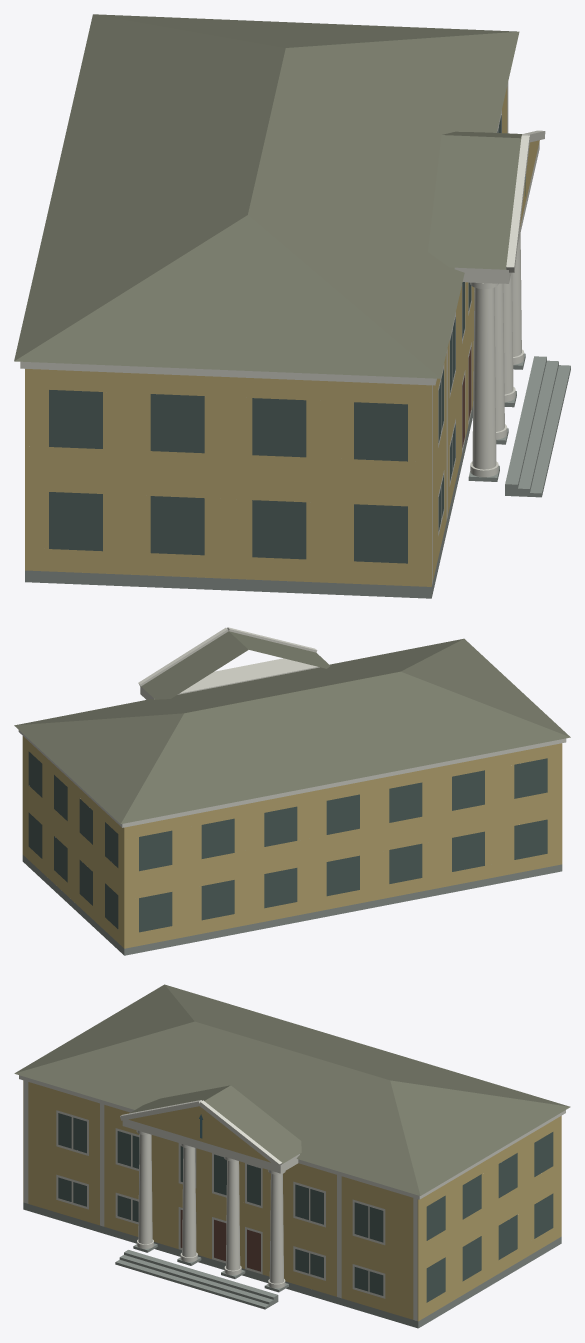
Rendered from fort-langley-community-hall-near.glb.
3 views of the same model, one above another, from view 1: azimuth 30°, elevation 25°; view 2: azimuth 150°, elevation 25°; view 3: azimuth 270°, elevation 25° (orthographic). The views are drawn at different scales.
Parts seen in each view (by area): view 1: fort-langley-community-hall-0-roof, fort-langley-community-hall-0-stone, fort-langley-community-hall-0-glass, fort-langley-community-hall-0-trim, fort-langley-community-hall-0-plinth; view 2: fort-langley-community-hall-0-roof, fort-langley-community-hall-0-stone, fort-langley-community-hall-0-glass, fort-langley-community-hall-0-trim, fort-langley-community-hall-0-plinth; view 3: fort-langley-community-hall-0-roof, fort-langley-community-hall-0-stone, fort-langley-community-hall-0-trim, fort-langley-community-hall-0-glass, fort-langley-community-hall-0-plinth, fort-langley-community-hall-0-door.
Part boxes in pixels (left/top/right/bottom): fort-langley-community-hall-0-roof: left=14, top=14, right=521, bottom=378; fort-langley-community-hall-0-stone: left=25, top=86, right=539, bottom=586; fort-langley-community-hall-0-glass: left=49, top=115, right=501, bottom=563; fort-langley-community-hall-0-trim: left=20, top=82, right=545, bottom=584; fort-langley-community-hall-0-plinth: left=25, top=353, right=570, bottom=598; fort-langley-community-hall-0-roof: left=14, top=631, right=570, bottom=823; fort-langley-community-hall-0-stone: left=22, top=736, right=562, bottom=948; fort-langley-community-hall-0-glass: left=28, top=751, right=547, bottom=932; fort-langley-community-hall-0-trim: left=18, top=627, right=566, bottom=827; fort-langley-community-hall-0-plinth: left=22, top=855, right=562, bottom=955; fort-langley-community-hall-0-roof: left=14, top=984, right=570, bottom=1195; fort-langley-community-hall-0-stone: left=23, top=1080, right=561, bottom=1321; fort-langley-community-hall-0-trim: left=19, top=1075, right=565, bottom=1320; fort-langley-community-hall-0-glass: left=58, top=1113, right=553, bottom=1302; fort-langley-community-hall-0-plinth: left=23, top=1202, right=561, bottom=1328; fort-langley-community-hall-0-door: left=180, top=1210, right=260, bottom=1271.
Size of the model in its own units: 28.87 by 11.43 by 32.1.
